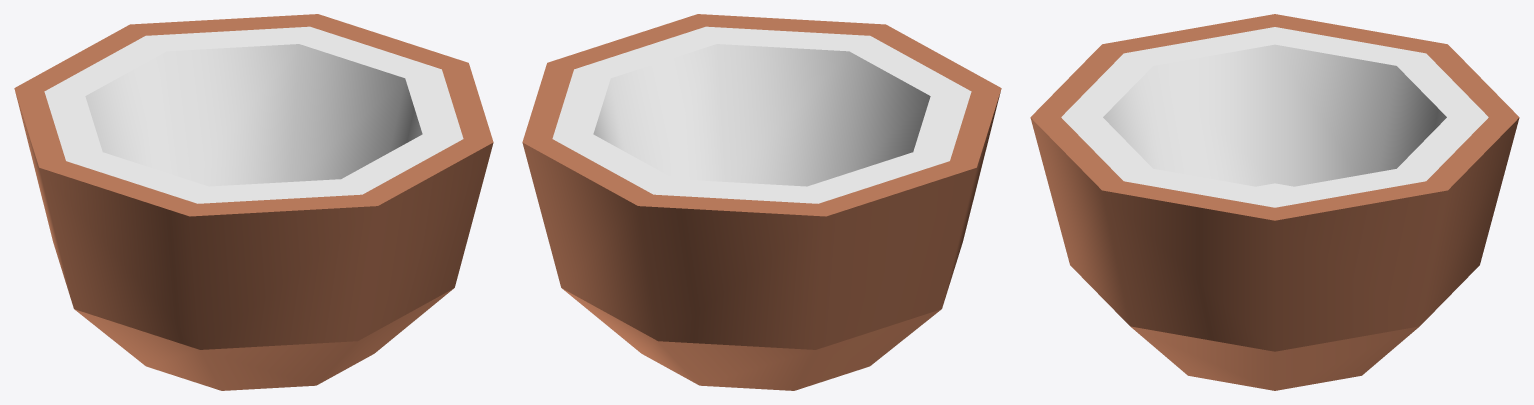
File: Coconut Half.glb
3 views of the same model, side by side, from view 1: azimuth 30°, elevation 25°; view 2: azimuth 150°, elevation 25°; view 3: azimuth 270°, elevation 25° (orthographic).
Parts seen in each view (by area): view 1: coconutHalf; view 2: coconutHalf; view 3: coconutHalf.
Boxes of the visible parts, box(x1,y1,x2,y2) form: coconutHalf: box(14, 14, 493, 390); coconutHalf: box(522, 14, 1001, 390); coconutHalf: box(1030, 14, 1519, 390).
Bounding box in the file's own units: 0.2484 × 0.1242 × 0.2484.
